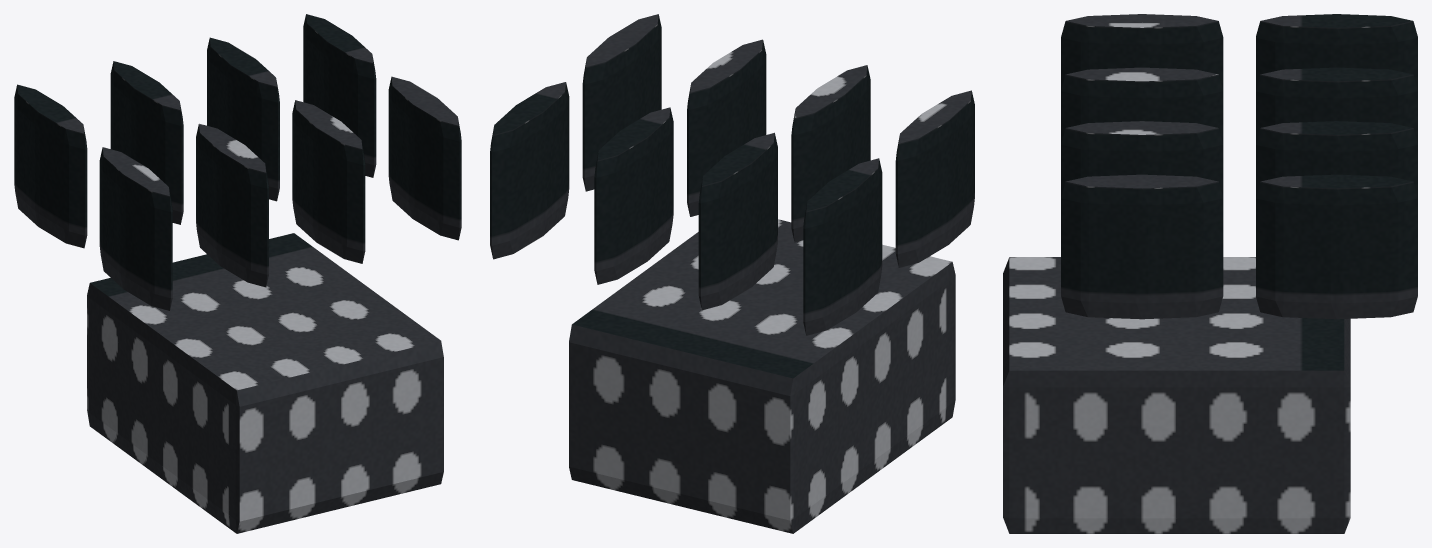
The model's file is RemoteBridge.glb.
3 views of the same model, side by side, from view 1: azimuth 30°, elevation 25°; view 2: azimuth 150°, elevation 25°; view 3: azimuth 270°, elevation 25° (orthographic). The views are drawn at different scales.
Parts seen in each view (by area): view 1: RemoteBridge; view 2: RemoteBridge; view 3: RemoteBridge.
Boxes of the visible parts, x1,y1,x2,y2 form: RemoteBridge: (14, 14, 461, 533); RemoteBridge: (490, 14, 974, 533); RemoteBridge: (1003, 14, 1417, 533).
Size of the model in its own units: 1 by 1 by 1.
Materials: 1 (1 with a texture image).
